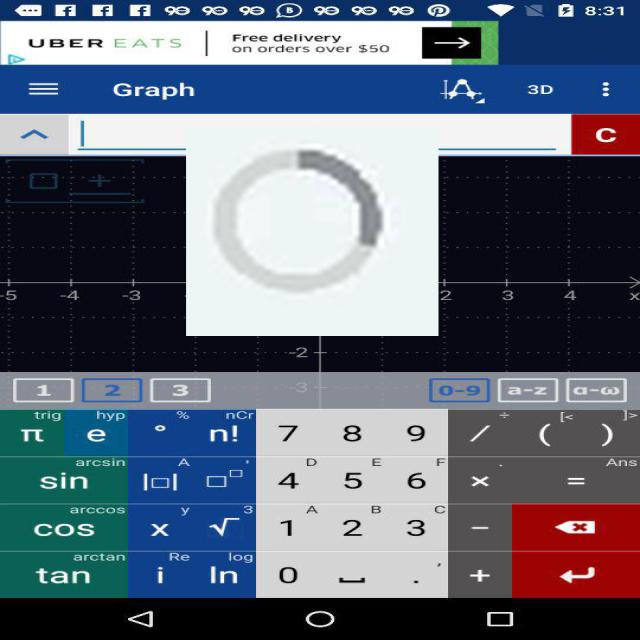misdirection: (186, 127, 439, 336)
